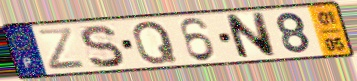6: (179, 16, 218, 63)
8: (274, 11, 313, 55)
N: (222, 10, 278, 61)
Q: (131, 19, 181, 66)
S: (78, 23, 126, 70)
Z: (35, 26, 89, 72)
